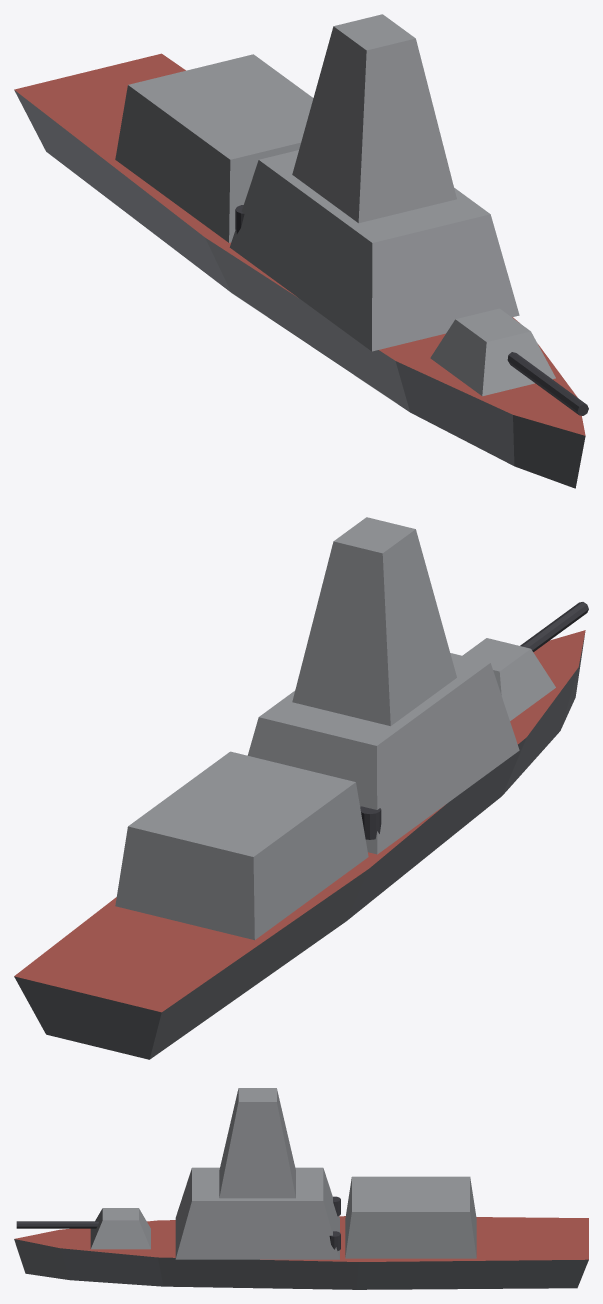
Rendered from enemy_large.glb.
3 views of the same model, one above another, from view 1: azimuth 30°, elevation 25°; view 2: azimuth 150°, elevation 25°; view 3: azimuth 270°, elevation 25° (orthographic). The views are drawn at different scales.
Parts seen in each view (by area): view 1: EnemyLarge; view 2: EnemyLarge; view 3: EnemyLarge.
Part boxes in pixels (left/top/right/bottom): EnemyLarge: left=14, top=14, right=588, bottom=488; EnemyLarge: left=14, top=517, right=588, bottom=1059; EnemyLarge: left=14, top=1088, right=588, bottom=1289.
Size of the model in its own units: 2 by 3.6 by 10.5.
